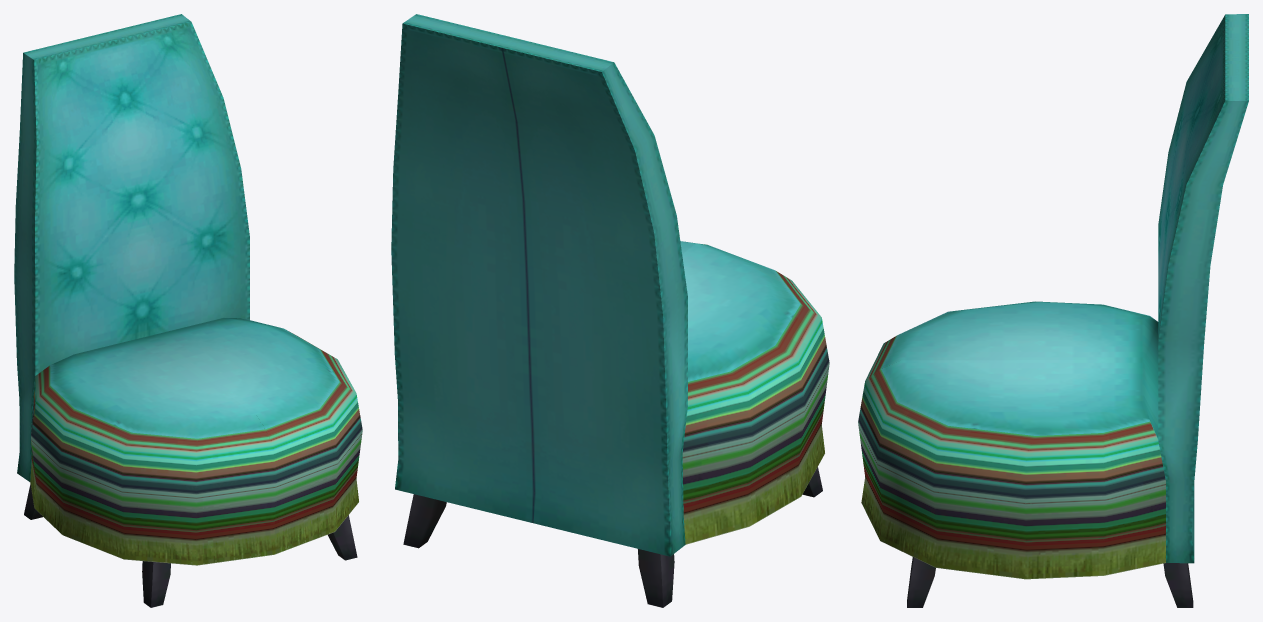
File: furni_0200614_01.FBX
3 views of the same model, side by side, from view 1: azimuth 30°, elevation 25°; view 2: azimuth 150°, elevation 25°; view 3: azimuth 270°, elevation 25° (orthographic). The views are drawn at different scales.
Visible parts, largest first — view 1: furni_0200614_01; view 2: furni_0200614_01; view 3: furni_0200614_01.
Boxes of the visible parts, x1=… form: furni_0200614_01: x1=14, y1=14, x2=362, y2=607; furni_0200614_01: x1=391, y1=14, x2=829, y2=607; furni_0200614_01: x1=858, y1=14, x2=1248, y2=607.
Size of the model in its own units: 78.77 by 116 by 83.48.
Materials: 1 (1 with a texture image).
